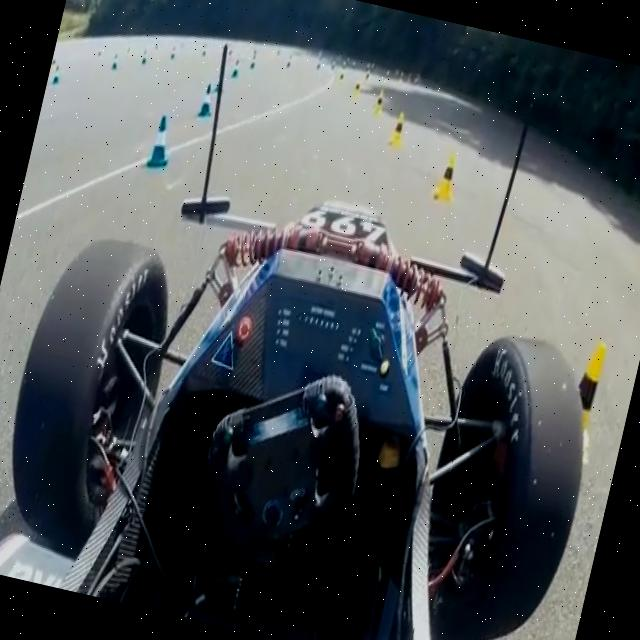blue_cone: (143, 112, 180, 173), (196, 82, 218, 120), (229, 58, 242, 80)
yellow_cone: (561, 334, 609, 426), (432, 151, 462, 205), (386, 108, 411, 152)
